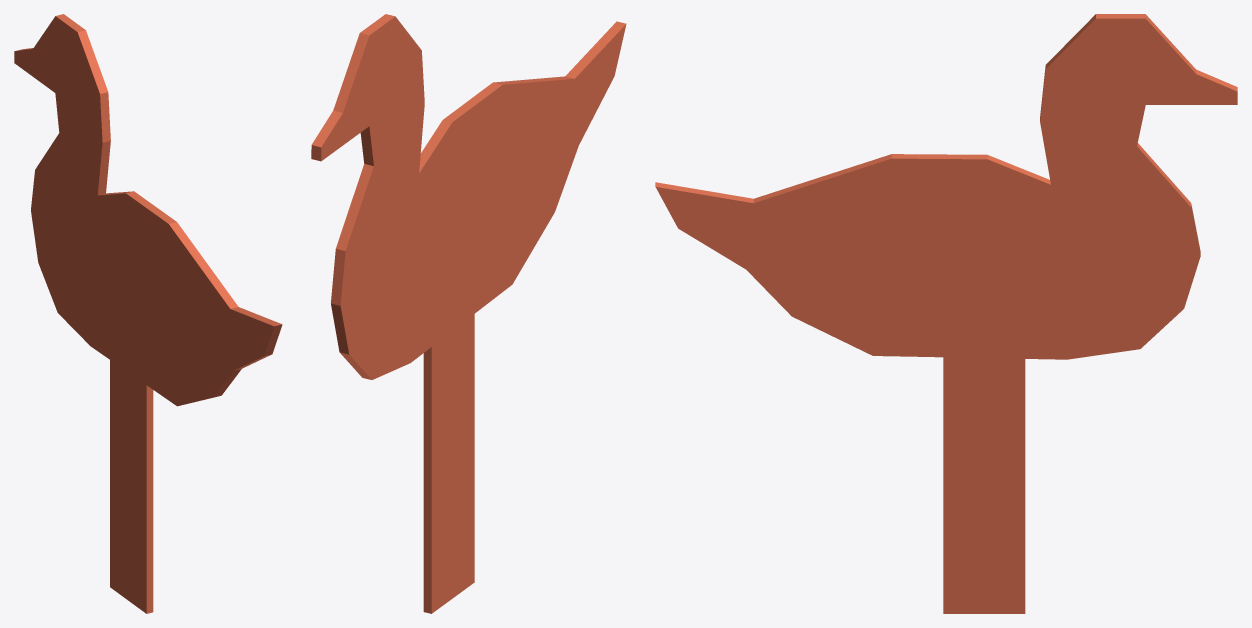
Rendered from duck.fbx.
3 renders of one model, left to right at view 1: azimuth 30°, elevation 25°; view 2: azimuth 150°, elevation 25°; view 3: azimuth 270°, elevation 25°, orthographic. The views are drawn at different scales.
Parts seen in each view (by area): view 1: Duck, holdbar; view 2: Duck, holdbar; view 3: Duck, holdbar.
Boxes of the visible parts, x1,y1,x2,y2 form: Duck: (14, 14, 282, 406); holdbar: (110, 360, 153, 613); Duck: (311, 14, 626, 379); holdbar: (423, 314, 474, 613); Duck: (655, 14, 1237, 359); holdbar: (943, 357, 1025, 613).
Size of the model in its own units: 0.617 by 37.65 by 33.34.
